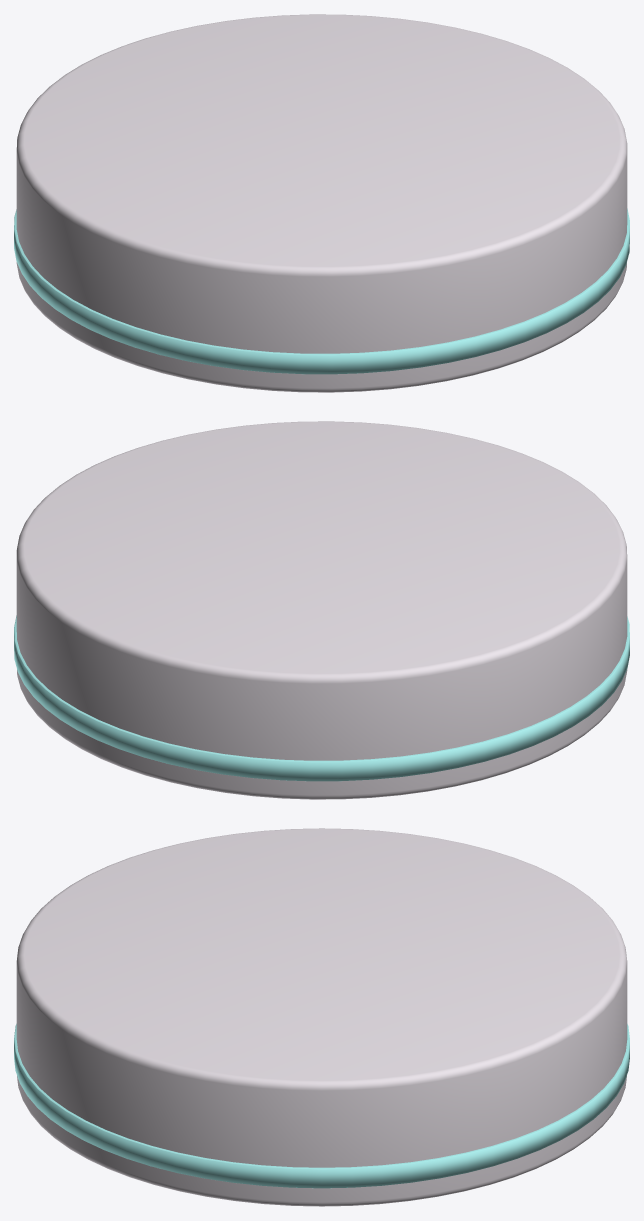
3 renders of one model, top to bottom at view 1: azimuth 30°, elevation 25°; view 2: azimuth 150°, elevation 25°; view 3: azimuth 270°, elevation 25°, orthographic.
Visible parts, largest first — view 1: Cylinder_0, Cylinder.003_6; view 2: Cylinder_0, Cylinder.003_6; view 3: Cylinder_0, Cylinder.003_6.
Boxes of the visible parts, box(x1,y1,x2,y2) form: Cylinder_0: box(16, 14, 627, 392); Cylinder.003_6: box(14, 208, 629, 374); Cylinder_0: box(16, 421, 627, 799); Cylinder.003_6: box(14, 615, 629, 781); Cylinder_0: box(16, 828, 627, 1206); Cylinder.003_6: box(14, 1024, 629, 1188).
Size of the model in its own units: 4.03 by 0.9046 by 4.03.
